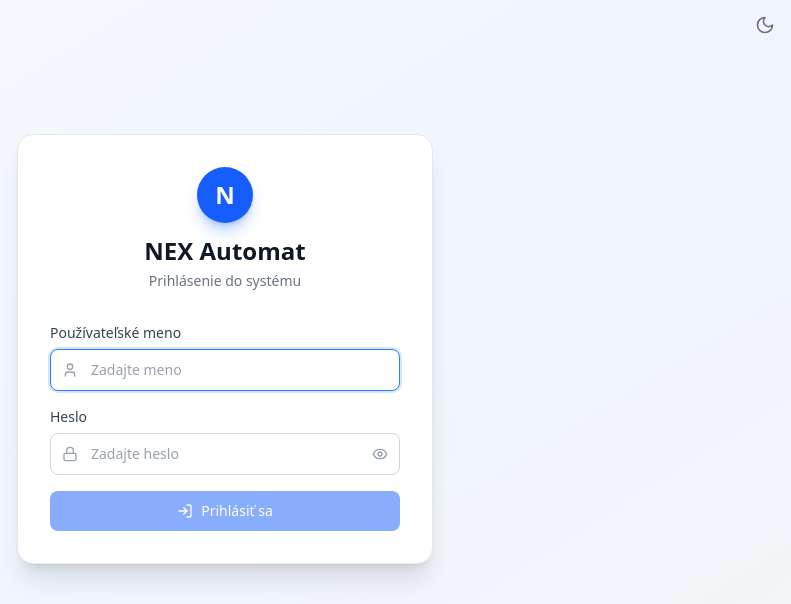
Test case: LoginScreen › shows loading state during login
In the field with test id "username": (225, 370) [50,349,400,391], type "admin"
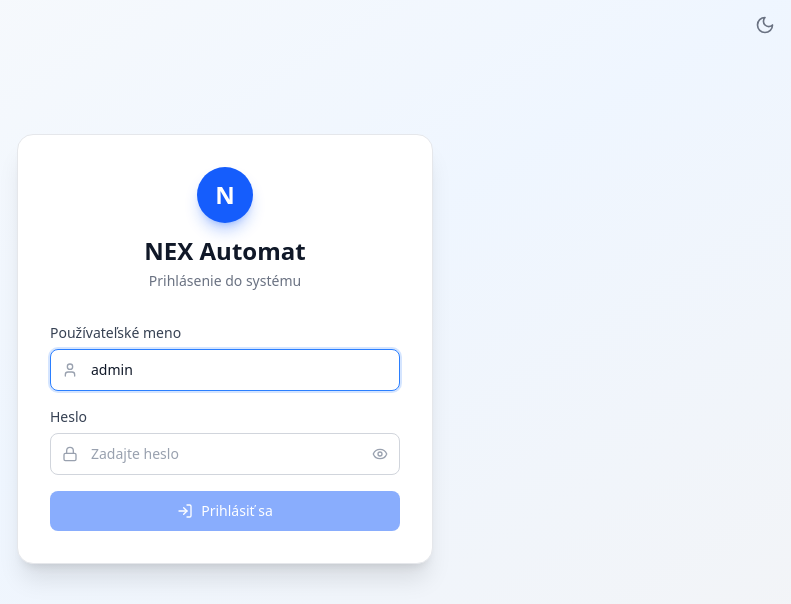
In the password field with test id "password": (225, 454) [50,433,400,475], type "password"
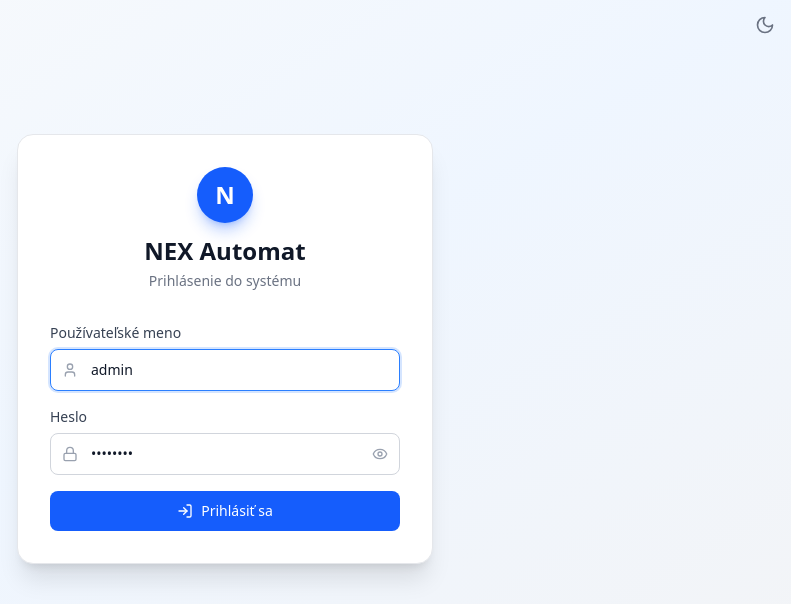
Click the button with test id "login-button": (225, 511) [50,491,400,531]
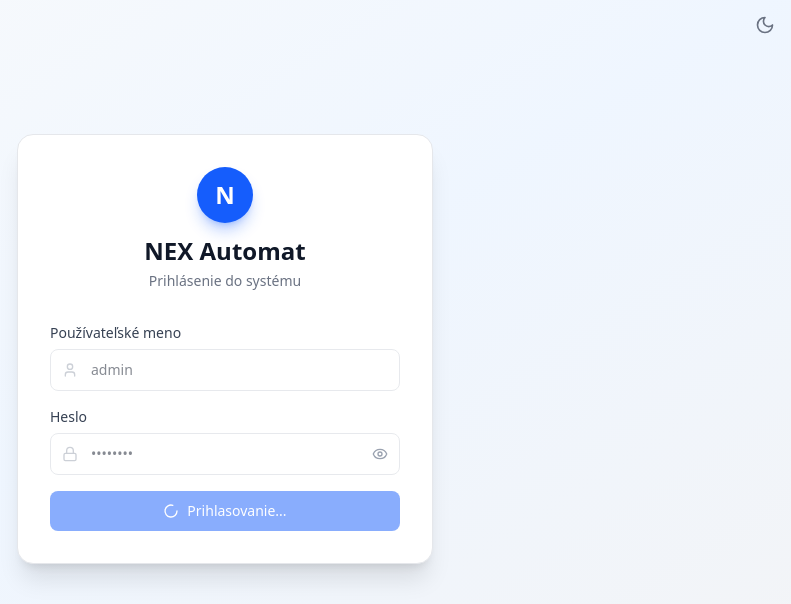
Now the button "Prihlasovanie..." is shown, box [50,491,400,531]
